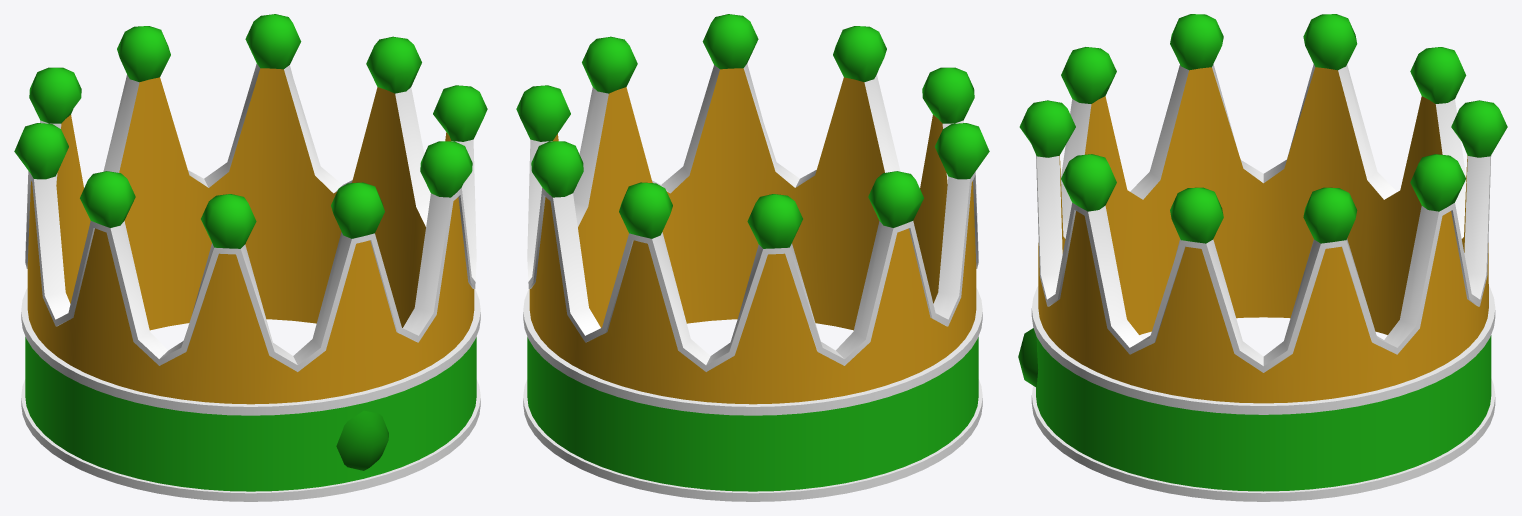
Rendered from Crown.fbx.
3 renders of one model, left to right at view 1: azimuth 30°, elevation 25°; view 2: azimuth 150°, elevation 25°; view 3: azimuth 270°, elevation 25°, orthographic.
Visible parts, largest first — view 1: Crown; view 2: Crown; view 3: Crown.
Part boxes in pixels (bbox=[...]): Crown: bbox=[14, 14, 487, 501]; Crown: bbox=[516, 14, 989, 501]; Crown: bbox=[1018, 14, 1507, 501].
Bounding box in the file's own units: 76.05 × 54.71 × 80.18.
1 material, 1 textured.
